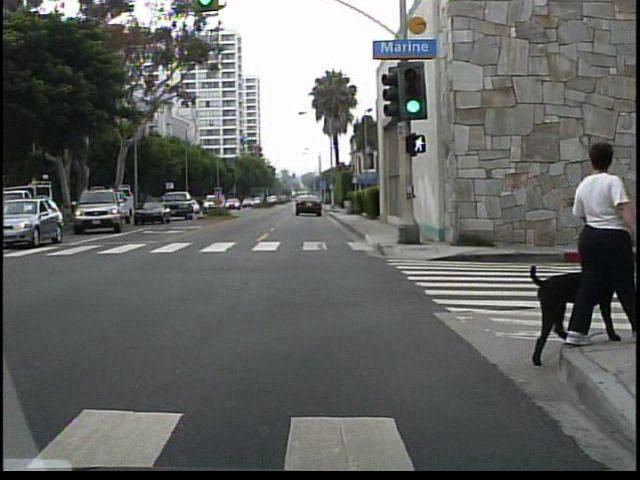person: (564, 140, 627, 345)
